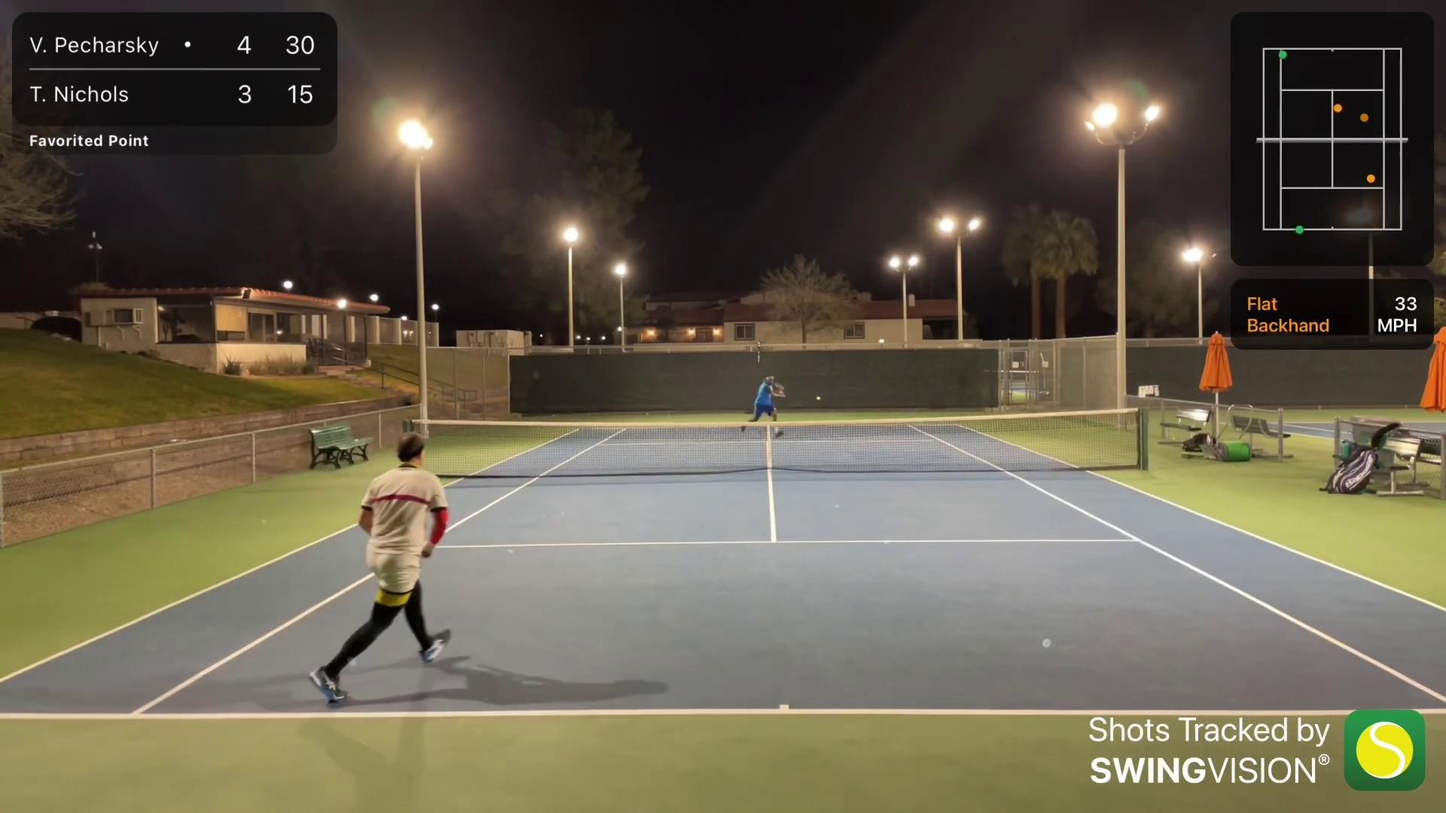ball: (815, 395, 820, 402)
